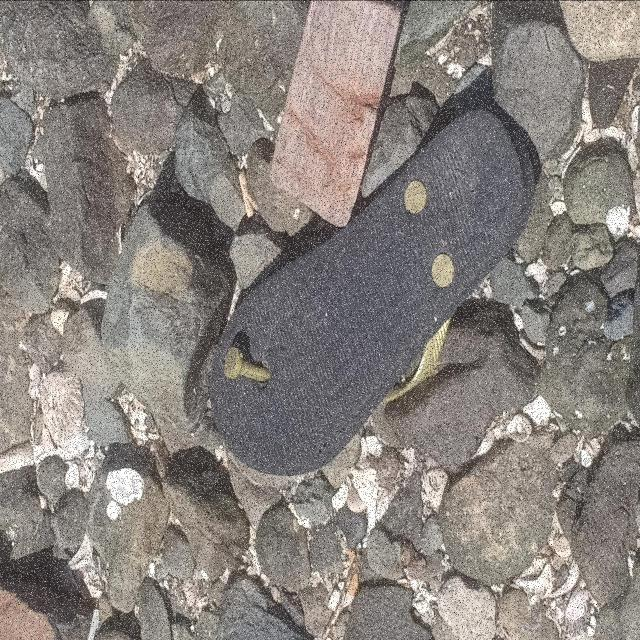rubber_waste: (212, 108, 536, 479)
